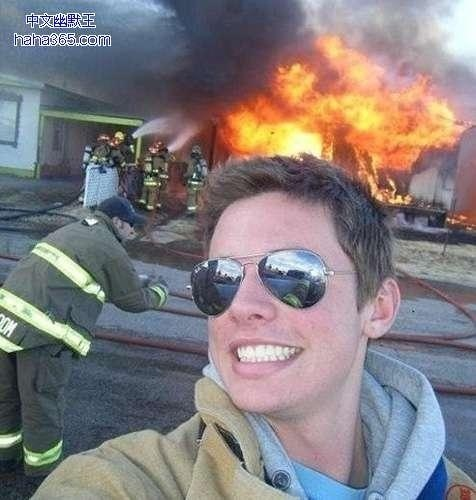fire: (217, 35, 467, 209)
